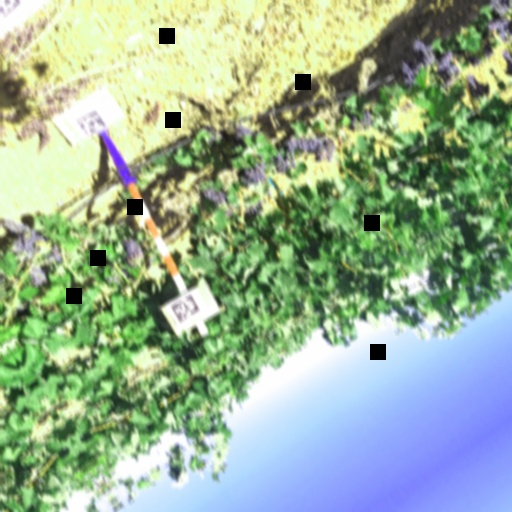QR: (165, 289, 204, 326), (73, 106, 108, 139)
